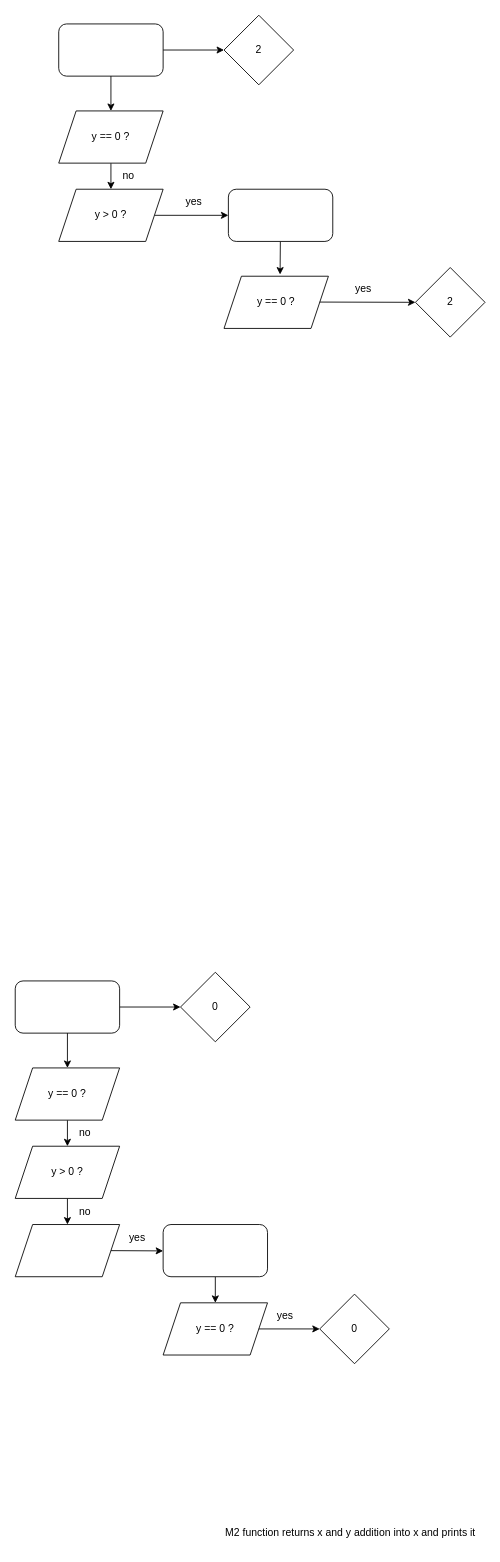
Image size: 500x1562. Some labels were removed from this diagram. Each missing label, with the centre of its shape:
"M1(x: 0, y: 0)" belongs at pixel 215 1250.
"M2(x: 1, y: -1)" belongs at pixel 67 1006.
"M2(x: 1, y: 1)" belongs at pixel 110 49.
"M2(x: 2, y: 0)" belongs at pixel 280 214.
"y < 0 ?" belongs at pixel 67 1250.
